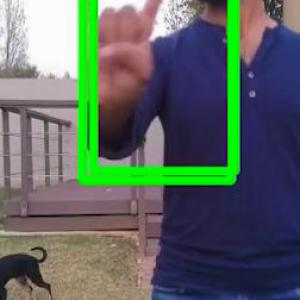takeoff-hand: (68, 0, 175, 113)
